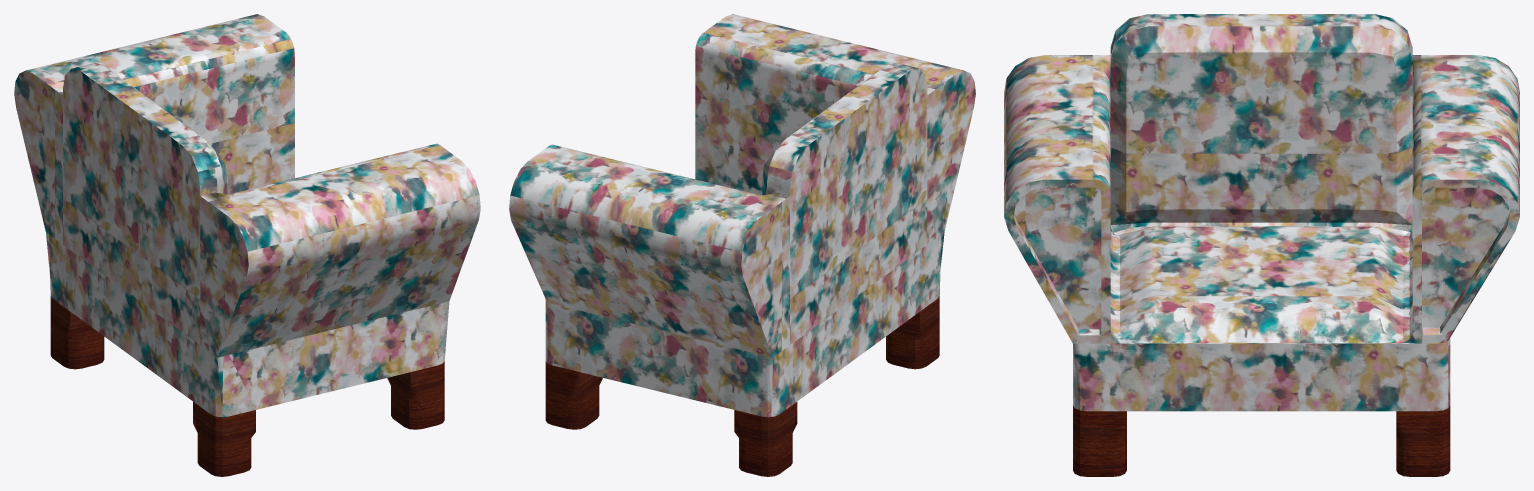
The model's file is SillonFlor.obj.
3 views of the same model, side by side, from view 1: azimuth 30°, elevation 25°; view 2: azimuth 150°, elevation 25°; view 3: azimuth 270°, elevation 25° (orthographic). The views are drawn at different scales.
Parts seen in each view (by area): view 1: SillonFlor:polySurface2; view 2: SillonFlor:polySurface2; view 3: SillonFlor:polySurface2.
Boxes of the visible parts, x1,y1,x2,y2 form: SillonFlor:polySurface2: (14,14,480,476); SillonFlor:polySurface2: (509,14,975,476); SillonFlor:polySurface2: (1004,14,1519,476).
Size of the model in its own units: 0.5274 by 0.6677 by 0.9222.
Materials: 2 (2 with a texture image).
